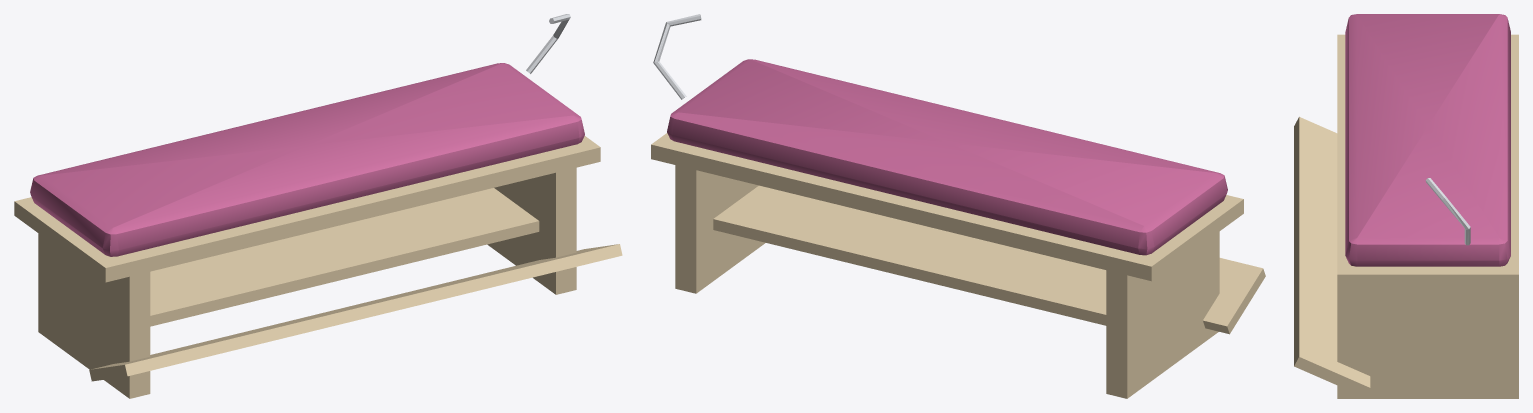
The model's file is snowboard-gear-and-freestyle-riders-fitting-bench-27526a46__27183.glb.
3 views of the same model, side by side, from view 1: azimuth 30°, elevation 25°; view 2: azimuth 150°, elevation 25°; view 3: azimuth 270°, elevation 25° (orthographic).
Parts seen in each view (by area): view 1: fitting-bench; view 2: fitting-bench; view 3: fitting-bench.
Boxes of the visible parts, x1,y1,x2,y2 form: fitting-bench: (14, 14, 622, 398); fitting-bench: (651, 14, 1265, 398); fitting-bench: (1294, 14, 1518, 398).
Size of the model in its own units: 1.51 by 0.6475 by 0.5701.
